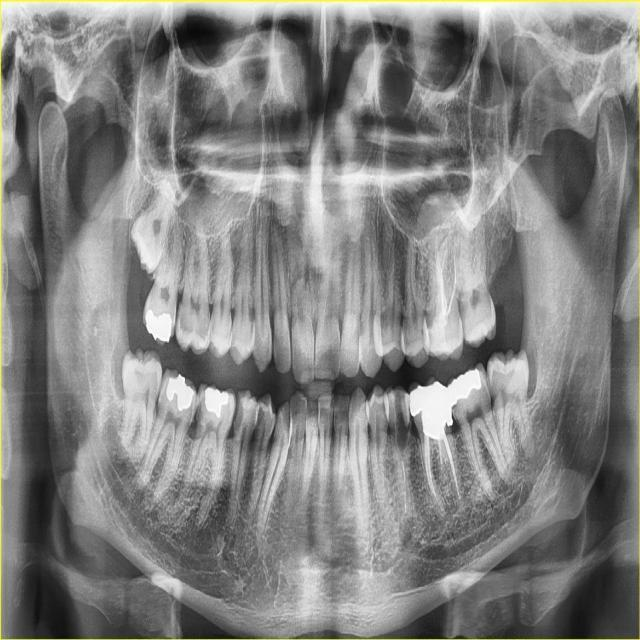Caries: (396, 410, 412, 456), (234, 396, 245, 432), (194, 397, 203, 441), (255, 402, 265, 431), (446, 425, 453, 438)
Filling: (409, 382, 453, 441), (423, 313, 454, 357), (448, 369, 482, 408), (166, 375, 194, 411), (142, 310, 172, 342), (204, 386, 228, 418)
Periapical lesion: (110, 455, 134, 480)
Root Canal Treatment: (424, 433, 440, 504), (435, 232, 448, 319), (445, 434, 460, 498), (447, 255, 456, 317), (441, 246, 448, 314), (438, 439, 442, 471), (404, 463, 406, 515)
impacted tooth: (124, 166, 179, 271), (490, 355, 536, 464), (118, 354, 161, 463)
